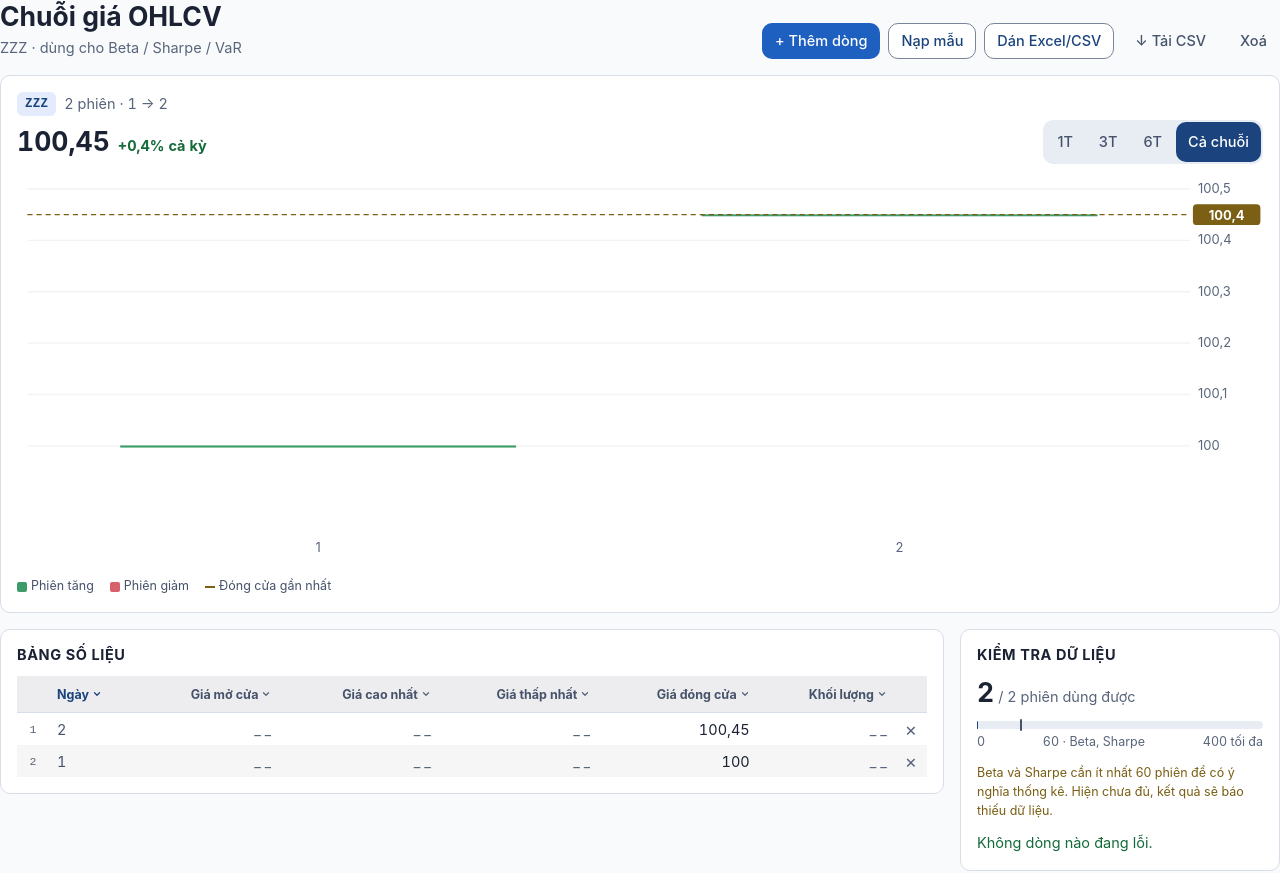
Test case: DataTableScreen — dán đè hay xoá bảng thì mã cũ không còn › dán bộ dữ liệu mẫu đè lên bảng của mã thì mã biến mất, cả trên màn lẫn trong kho
The width and height of the screenshot is (1280, 873).
Expected: the field named "Dòng 1 · Đóng" is shown, x1=598 y1=713 x2=758 y2=745
Click the button "Dán Excel/CSV": [1049, 41] box x1=984 y1=23 x2=1114 y2=59
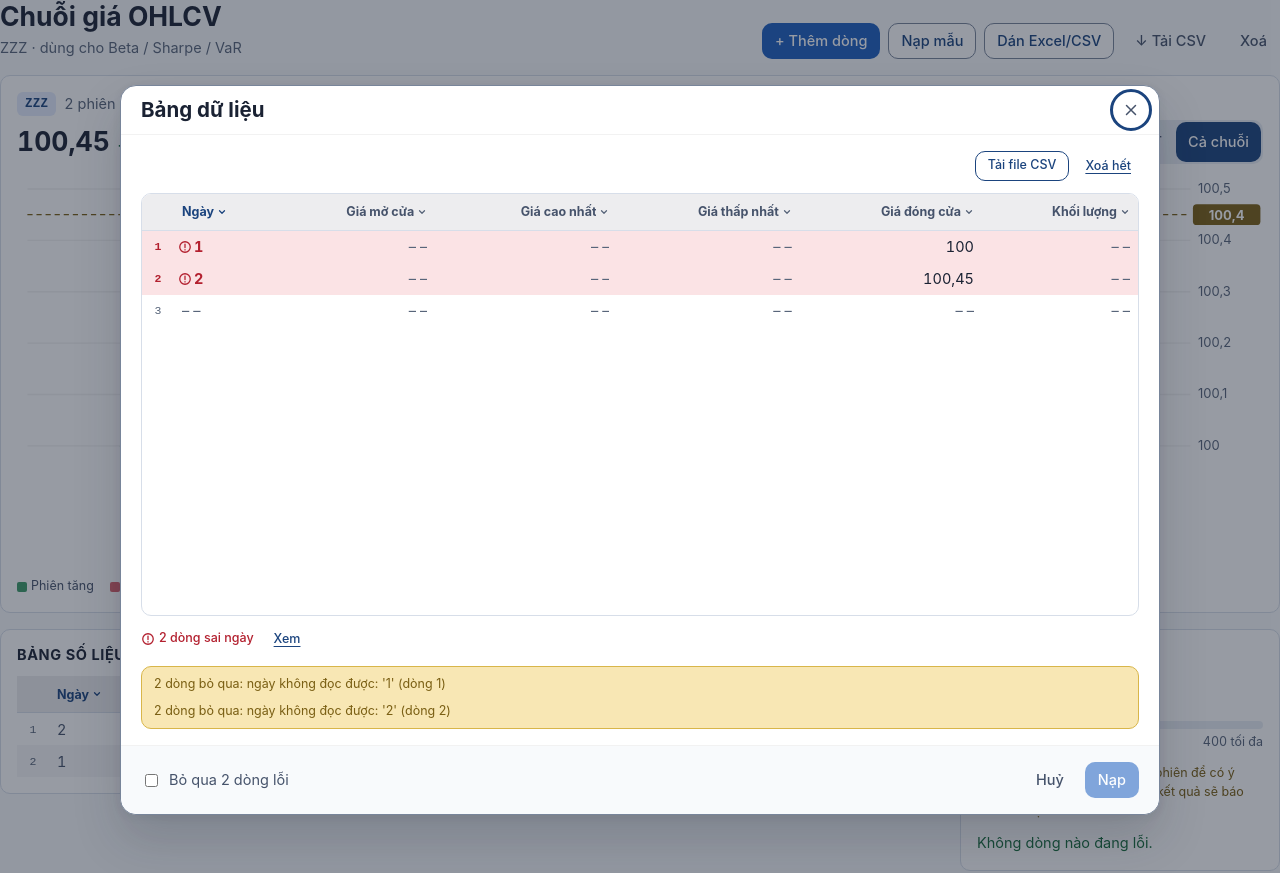
Tấm mở ra là thấy sẵn bảng đang dùng, nên nút ở chỗ "Dữ liệu mẫu" đang là "Xoá hết".
Click the button "Xoá hết": [1108, 166] box x1=1077 y1=151 x2=1139 y2=181
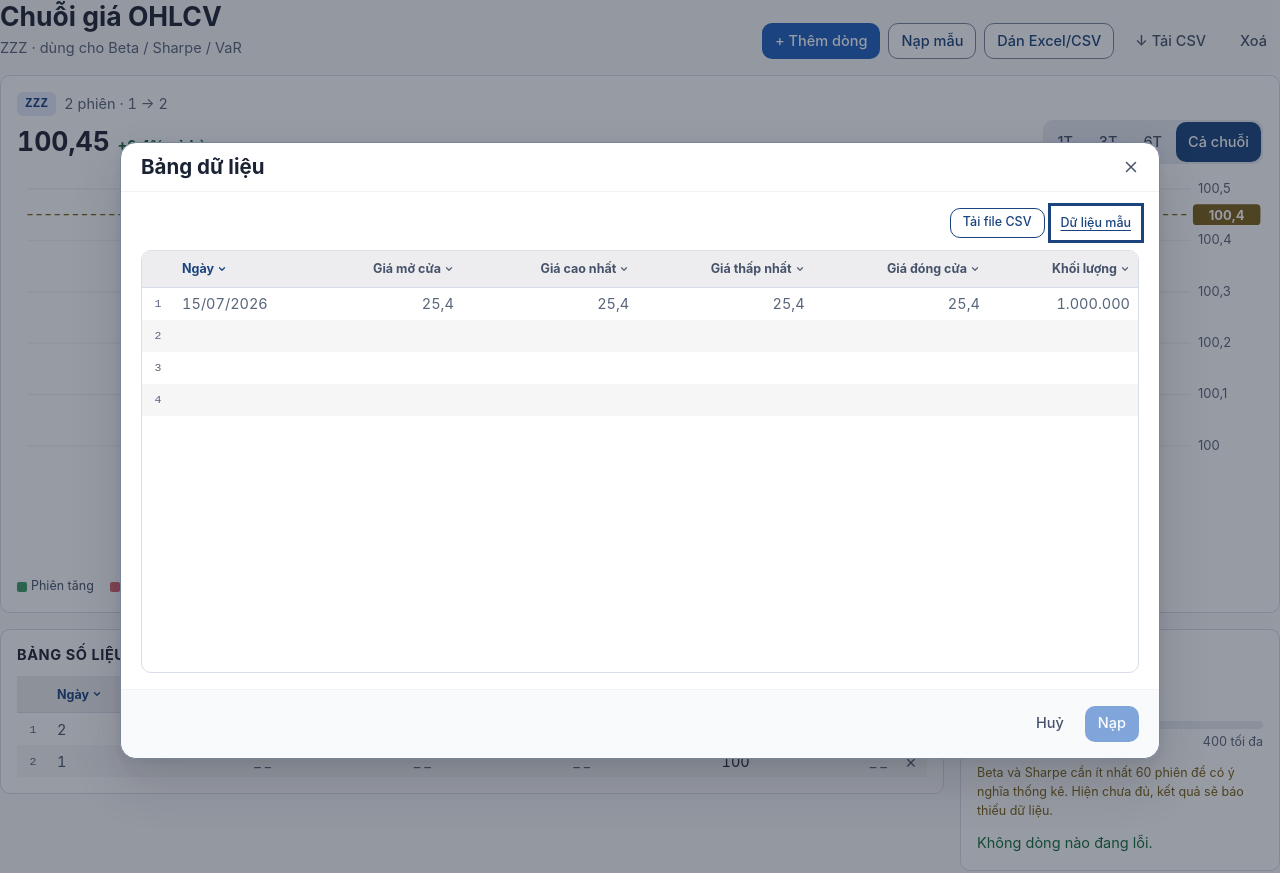
Click the button "Dữ liệu mẫu": [1096, 222] box x1=1052 y1=208 x2=1139 y2=238
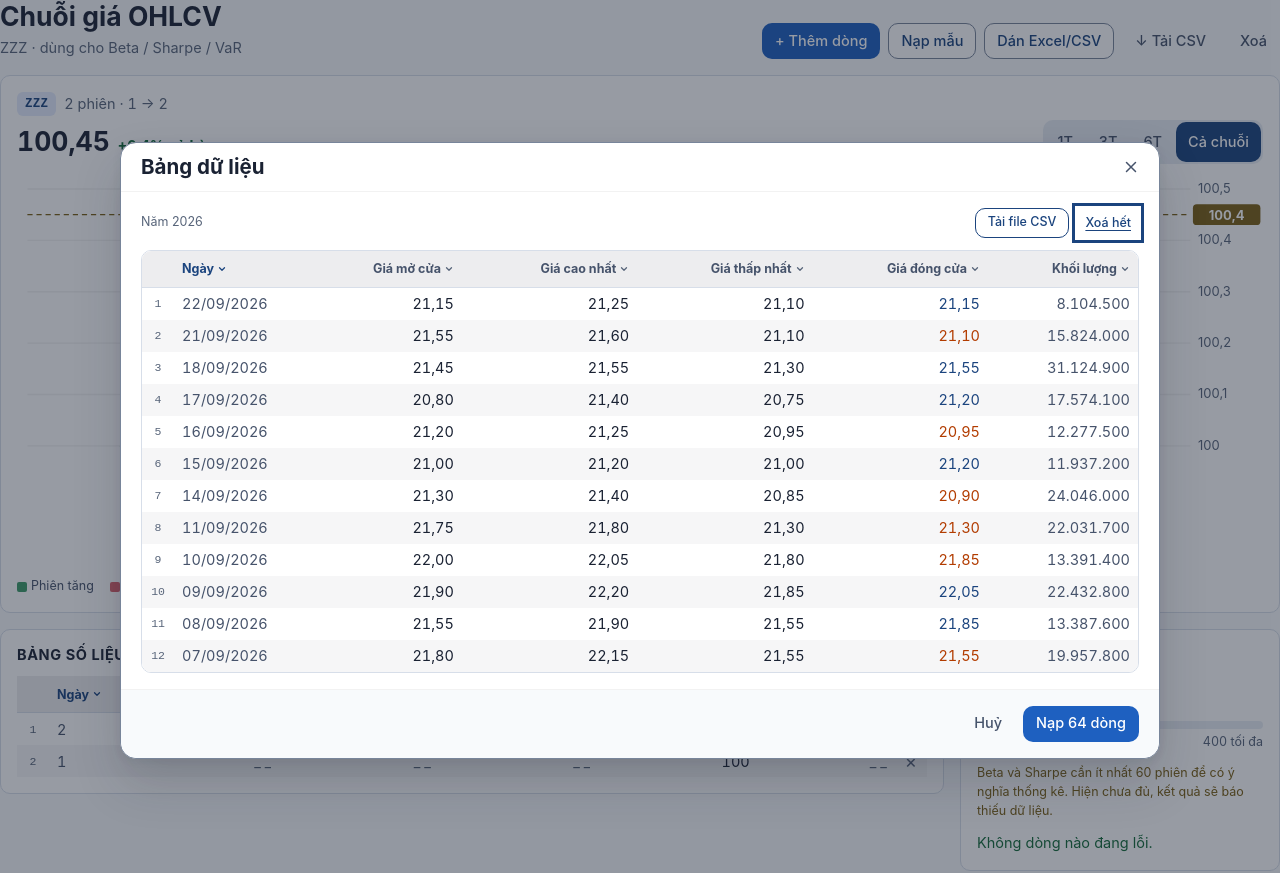
Click the button "Nạp 64 dòng": [1081, 724] box x1=1023 y1=706 x2=1139 y2=742
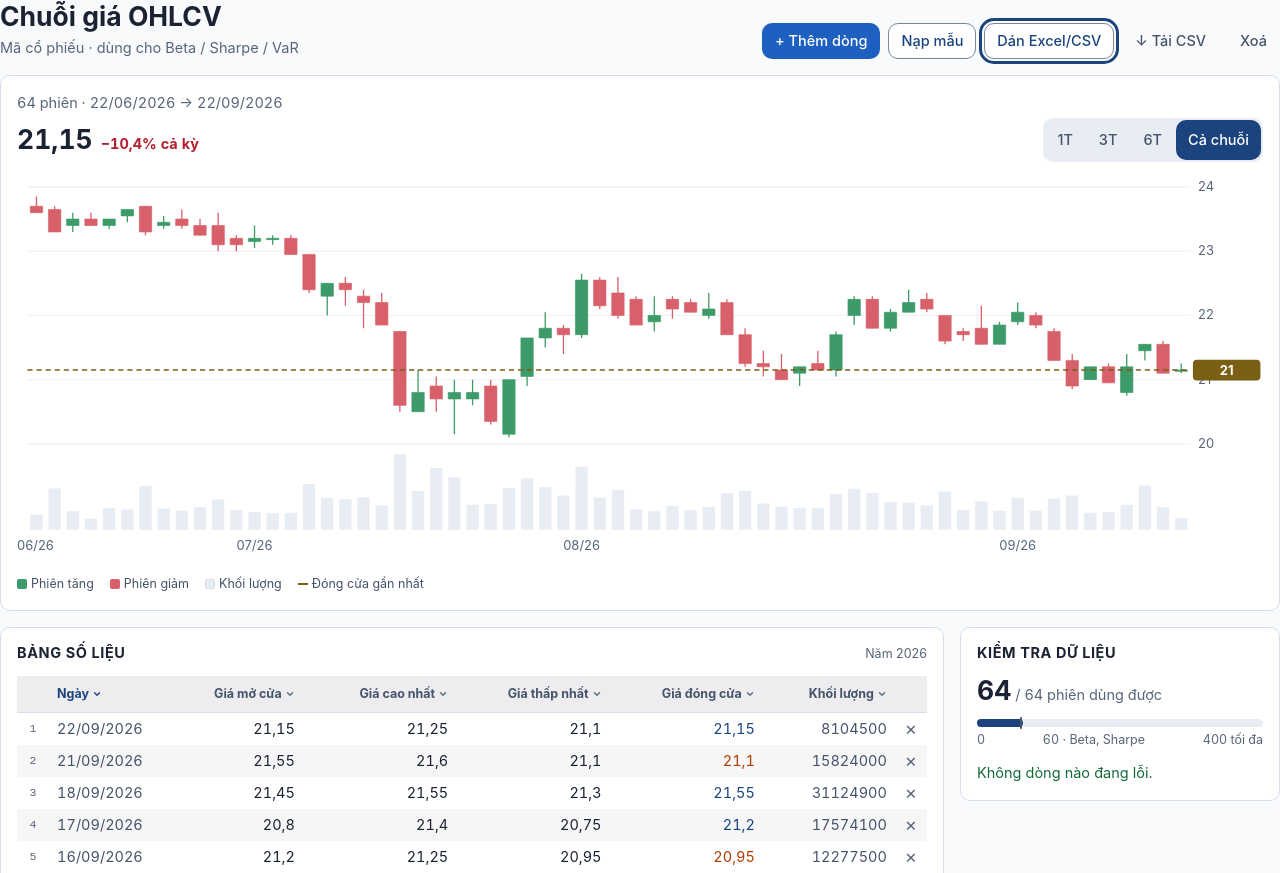
Expected: the text "ZZZ" is gone
